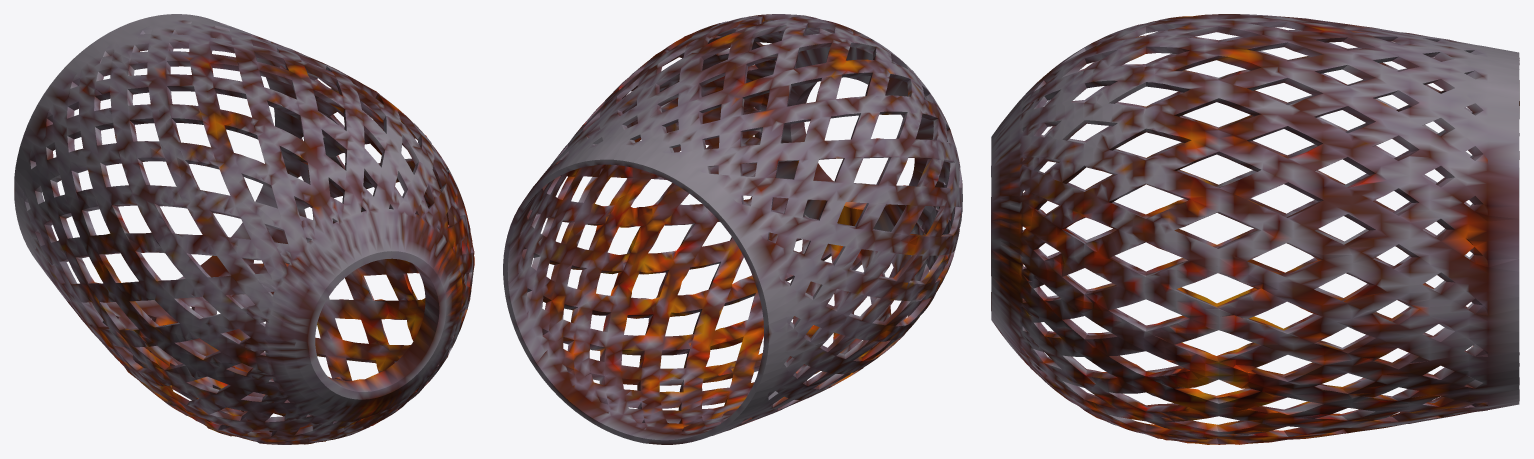
File: lamp_shade_14_final400.obj
3 views of the same model, side by side, from view 1: azimuth 30°, elevation 25°; view 2: azimuth 150°, elevation 25°; view 3: azimuth 270°, elevation 25° (orthographic). The views are drawn at different scales.
Bounding box in the file's own units: 1.21 × 1.21 × 1.49.
